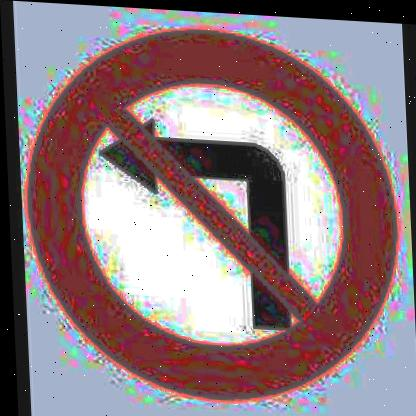No left turn: (18, 15, 415, 416)
